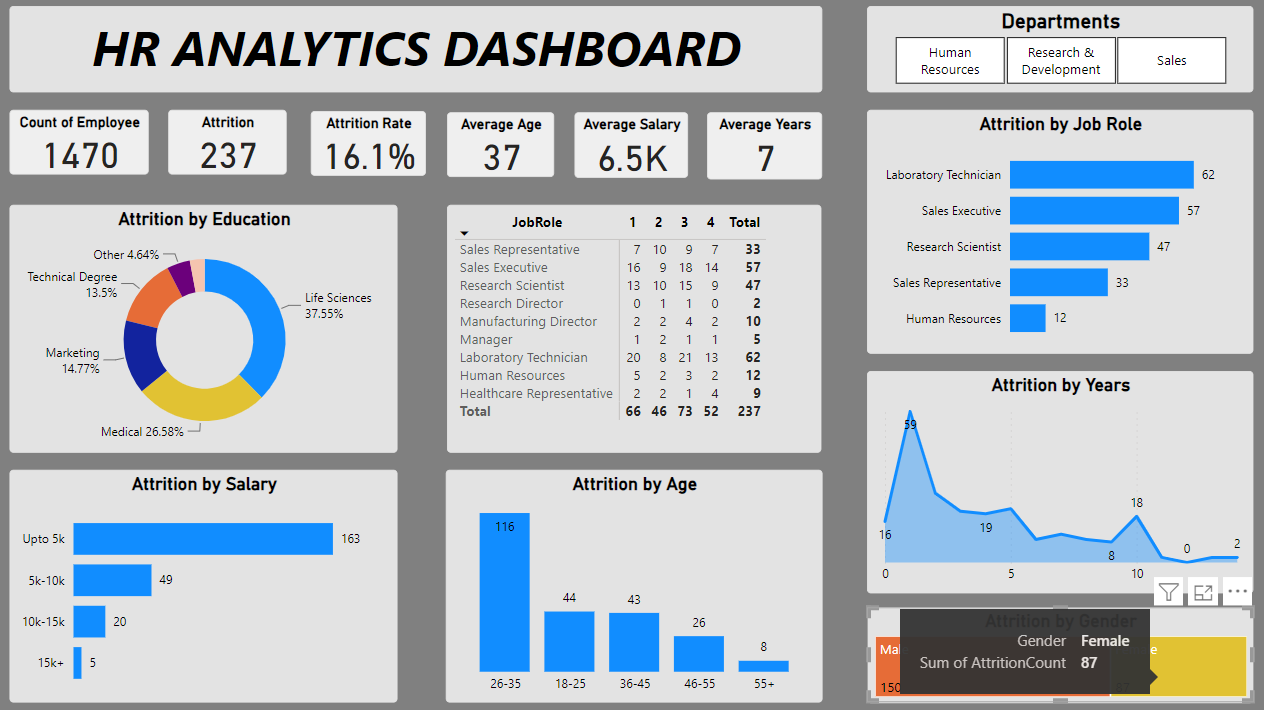

The page's visual inventory and layout, read from the dashboard file:
{"tool":"powerbi","page":{"name":"Page 1","canvas":[1280,720],"ordinal":0},"visuals":[{"type":"card","title":"Count of Employee","fields":{"Values":["CountNonNull(HR_Analytics.EmpID)"]},"box":[17,113.8,139.4,64.9],"z":0},{"type":"card","title":"Attrition","fields":{"Values":["Sum(HR_Analytics.AttritionCount)"]},"box":[176.6,113.8,118.1,64.9],"z":1000},{"type":"card","title":"Attrition Rate","fields":{"Values":["HR_Analytics.AttritionRate"]},"box":[319.1,114.9,114.9,64.9],"z":2000},{"type":"card","title":"Average Age ","fields":{"Values":["Avg(HR_Analytics.Age)"]},"box":[455.3,116,107.4,64.9],"z":3000},{"type":"card","title":"Average Salary","fields":{"Values":["Avg(HR_Analytics.MonthlyIncome)"]},"box":[583,116,113.8,66],"z":4000},{"type":"card","title":"Average Years ","fields":{"Values":["Avg(HR_Analytics.YearsAtCompany)"]},"box":[714.9,116,114.9,67],"z":5000},{"type":"donutChart","title":"Attrition by Education","fields":{"Category":["HR_Analytics.EducationField"],"Y":["Sum(HR_Analytics.AttritionCount)"]},"box":[17,208.5,388.3,247.9],"z":6000},{"type":"columnChart","title":"Attrition by Age","fields":{"Category":["HR_Analytics.AgeGroup"],"Y":["Sum(HR_Analytics.AttritionCount)"]},"box":[453.2,473.4,376.6,233],"z":7000},{"type":"pivotTable","fields":{"Rows":["HR_Analytics.JobRole"],"Columns":["HR_Analytics.JobSatisfaction"],"Values":["Sum(HR_Analytics.AttritionCount)"]},"box":[455.3,208.5,374.5,247.9],"z":8000},{"type":"barChart","title":"Attrition by Salary","fields":{"Category":["HR_Analytics.SalarySlab"],"Y":["Sum(HR_Analytics.AttritionCount)"]},"box":[17,473.4,388.3,233],"z":9000},{"type":"barChart","title":"Attrition by Job Role","fields":{"Category":["HR_Analytics.JobRole"],"Y":["Sum(HR_Analytics.AttritionCount)"]},"box":[875.5,113.8,386.2,243.6],"z":10000},{"type":"areaChart","title":"Attrition by Years","fields":{"Category":["HR_Analytics.YearsAtCompany"],"Y":["Sum(HR_Analytics.AttritionCount)"]},"box":[875,375,386.2,222.5],"z":11000},{"type":"treemap","title":"Attrition by Gender","fields":{"Group":["HR_Analytics.Gender"],"Values":["Sum(HR_Analytics.AttritionCount)"]},"box":[875.5,610.6,386.2,95.7],"z":12000},{"type":"slicer","title":"Departments","fields":{"Values":["HR_Analytics.Department"]},"box":[875.5,9.6,386.2,86.2],"z":13000},{"type":"textbox","box":[17,9.6,812.8,86.2],"z":14000}]}

Visuals, with their boxes in screenshot pixels (x1, y1, x2, y2), scaled from the page's 1280x720 canvas onto the 1264x710 screenshot:
"Count of Employee" card: [x1=17, y1=112, x2=154, y2=176]
"Attrition" card: [x1=174, y1=112, x2=291, y2=176]
"Attrition Rate" card: [x1=315, y1=113, x2=429, y2=177]
"Average Age " card: [x1=450, y1=114, x2=556, y2=178]
"Average Salary" card: [x1=576, y1=114, x2=688, y2=179]
"Average Years " card: [x1=706, y1=114, x2=819, y2=180]
"Attrition by Education" donutChart: [x1=17, y1=206, x2=400, y2=450]
"Attrition by Age" columnChart: [x1=448, y1=467, x2=819, y2=697]
pivotTable - HR_Analytics.JobRole x HR_Analytics.JobSatisfaction: [x1=450, y1=206, x2=819, y2=450]
"Attrition by Salary" barChart: [x1=17, y1=467, x2=400, y2=697]
"Attrition by Job Role" barChart: [x1=865, y1=112, x2=1246, y2=352]
"Attrition by Years" areaChart: [x1=864, y1=370, x2=1245, y2=589]
"Attrition by Gender" treemap: [x1=865, y1=602, x2=1246, y2=696]
"Departments" slicer: [x1=865, y1=9, x2=1246, y2=94]
textbox: [x1=17, y1=9, x2=819, y2=94]
